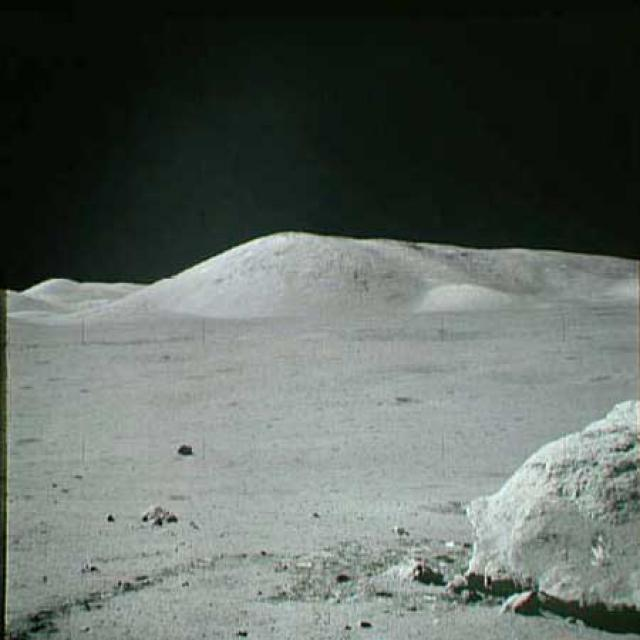rock: (440, 377, 638, 629), (133, 502, 178, 528), (499, 590, 542, 617), (447, 570, 473, 609), (172, 439, 196, 457)
